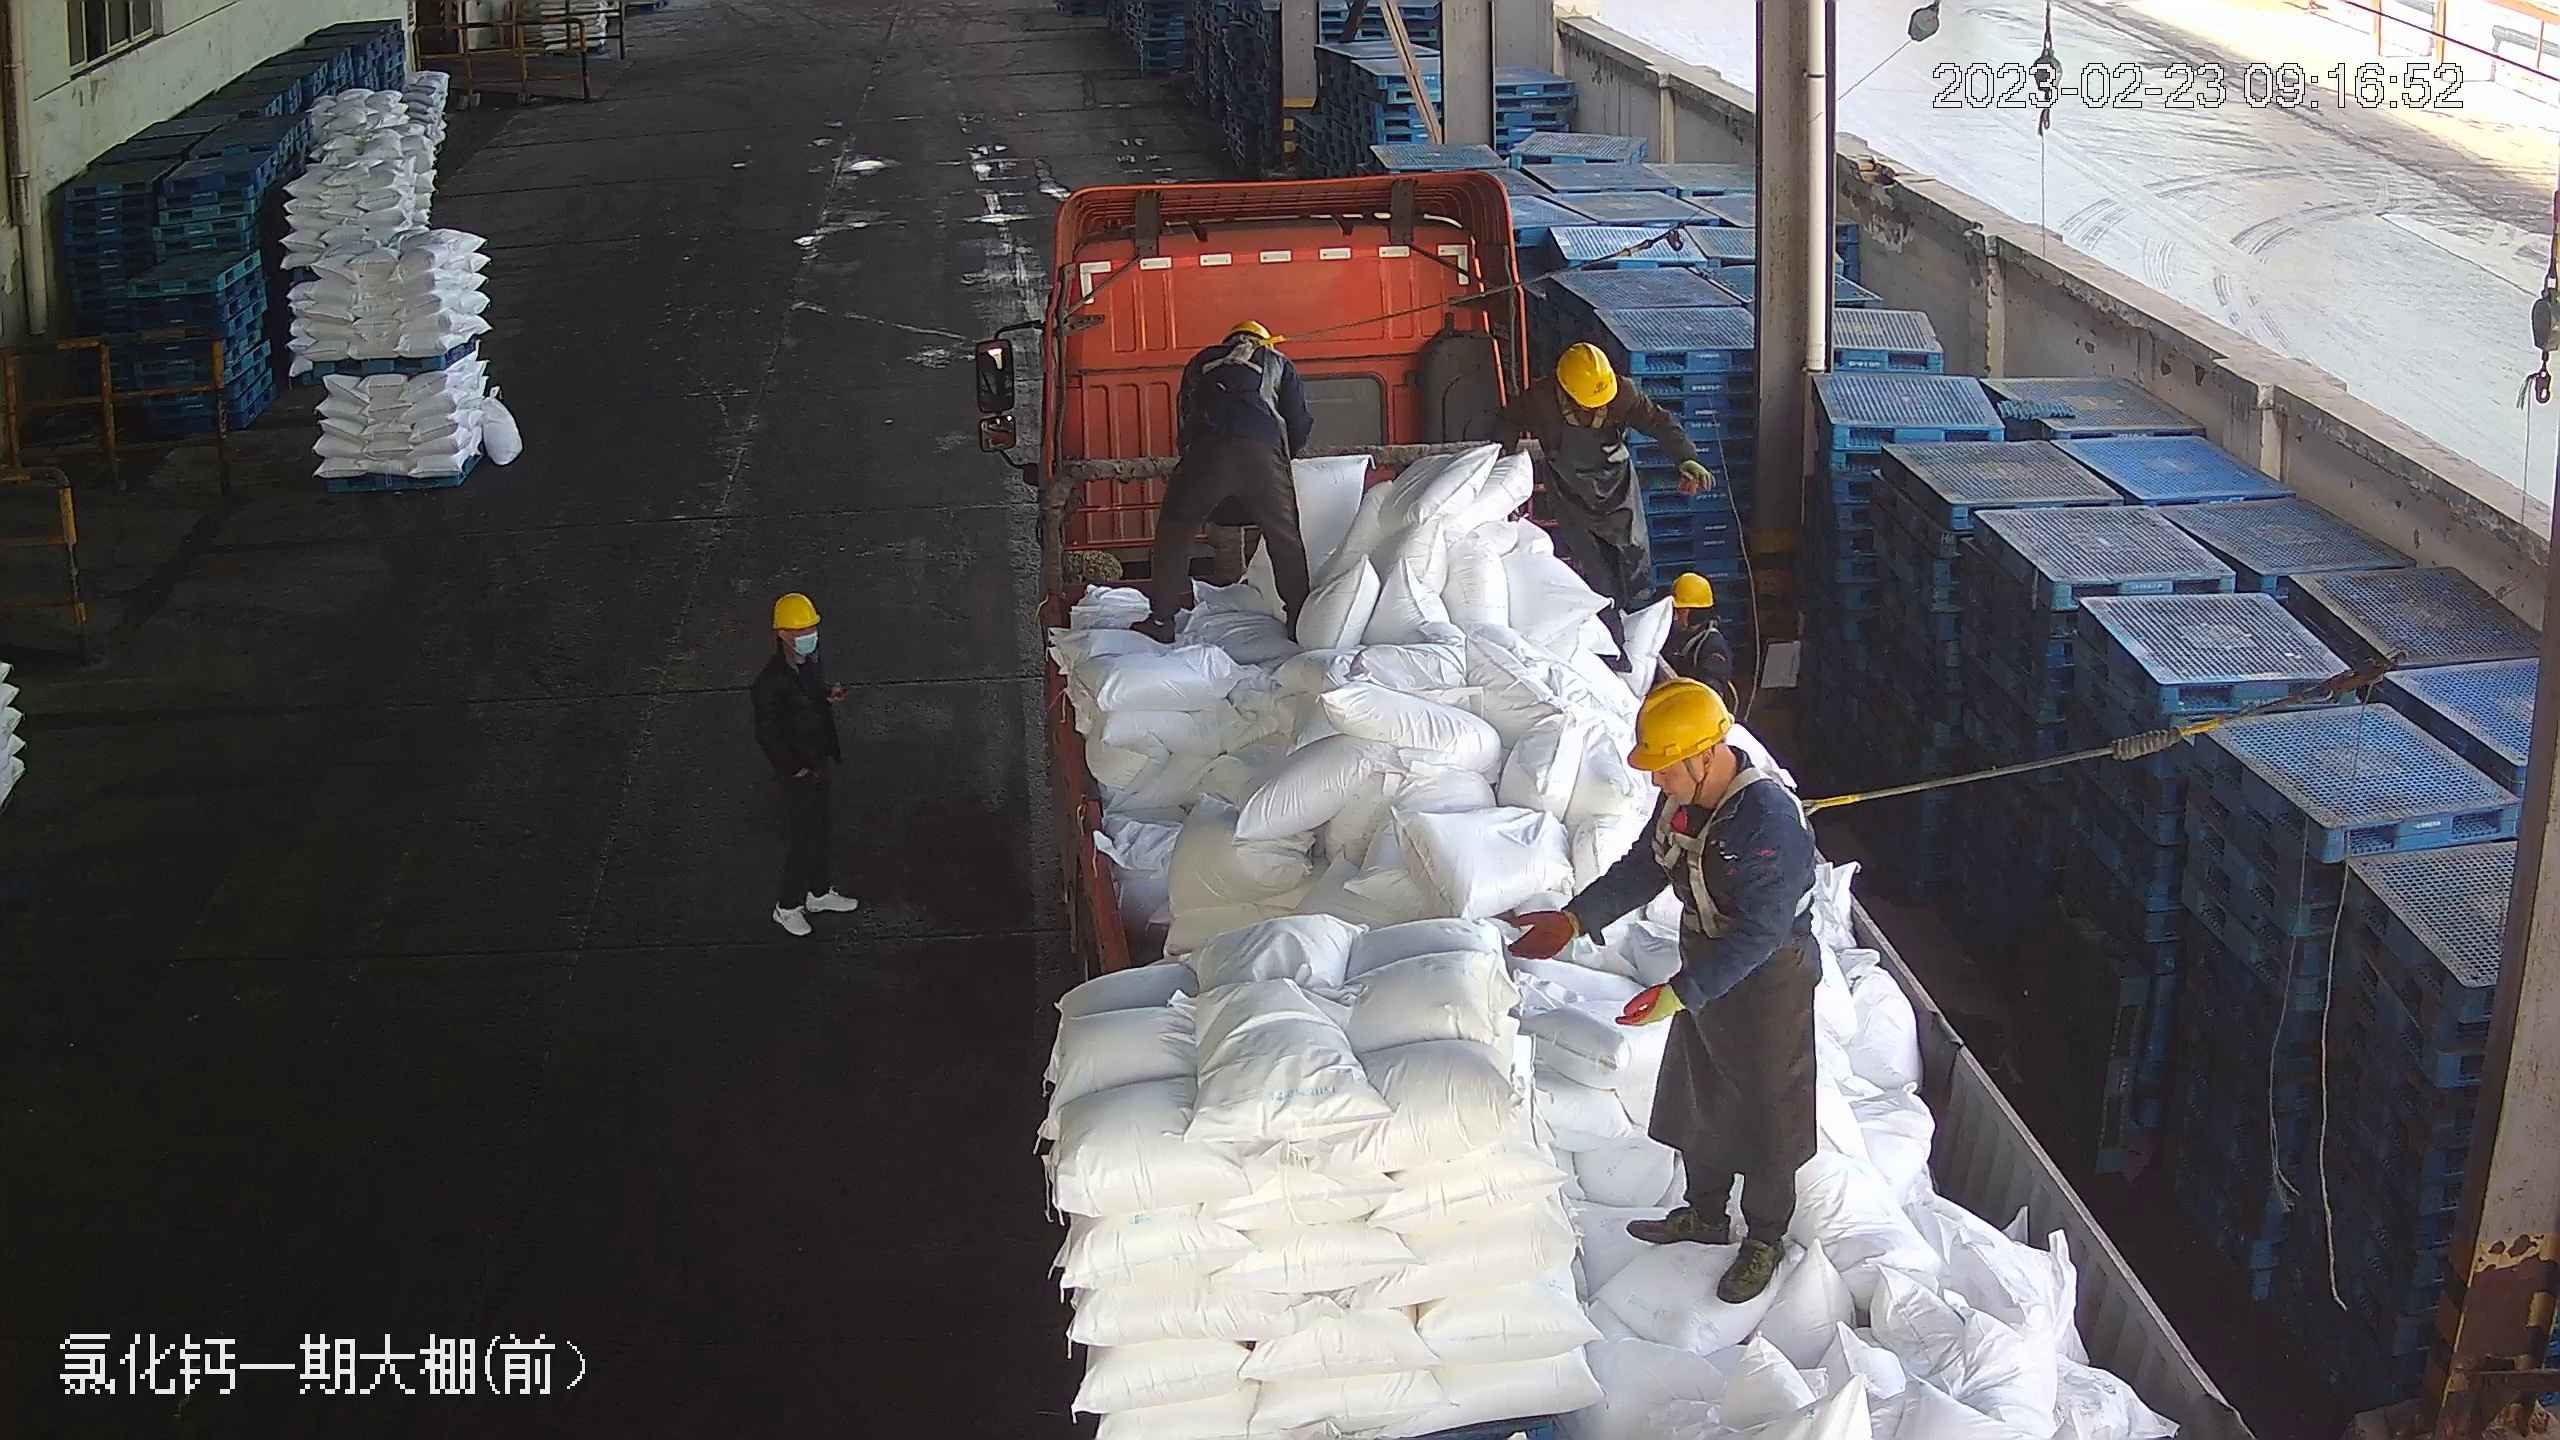belt: (1655, 789, 1826, 944), (1214, 341, 1287, 393), (1546, 385, 1610, 430), (1676, 617, 1717, 651)
head: (1618, 676, 1797, 877), (1531, 339, 1640, 443), (751, 590, 832, 696), (1191, 313, 1294, 389), (1655, 567, 1733, 664)
helmet: (1622, 673, 1735, 769), (1553, 339, 1620, 406), (1665, 568, 1719, 608), (768, 589, 822, 630), (1234, 316, 1283, 350)
people: (1512, 679, 1827, 1317), (1493, 339, 1698, 660), (1133, 312, 1325, 651), (746, 588, 865, 942)
truck: (968, 180, 2262, 1416)
